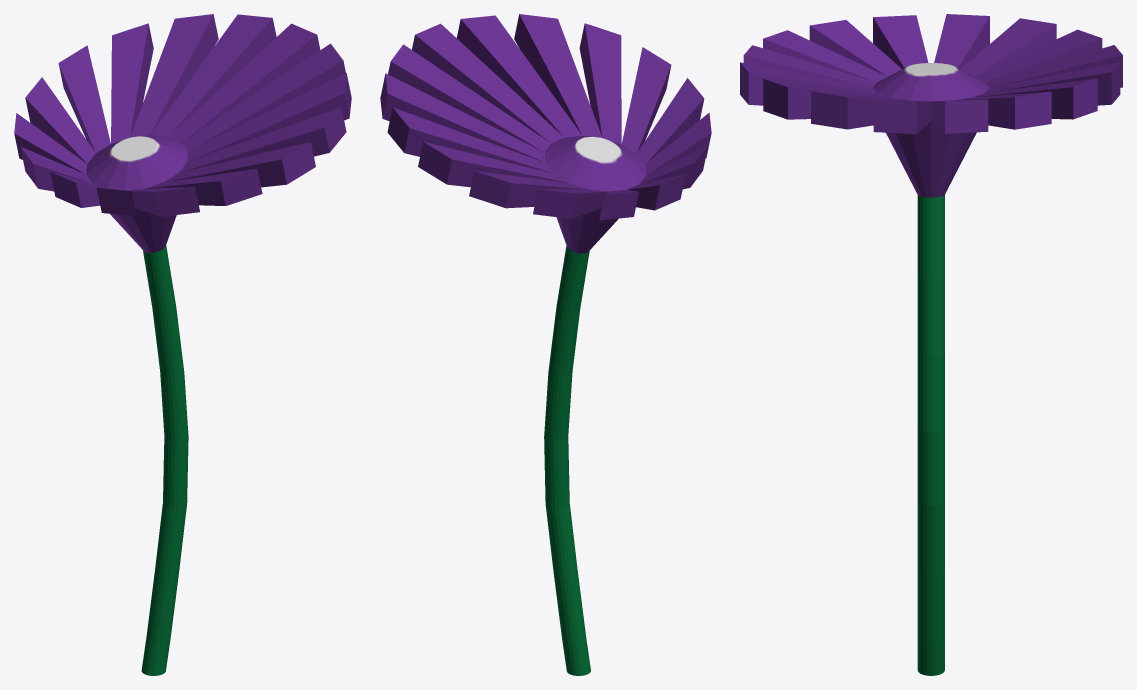
Rendered from flower.fbx.
The picture shows the model from 3 angles, left to right: view 1: azimuth 30°, elevation 25°; view 2: azimuth 150°, elevation 25°; view 3: azimuth 270°, elevation 25°; orthographic projection. The views are drawn at different scales.
Visible parts, largest first — view 1: pCone2; view 2: pCone2; view 3: pCone2.
Boxes of the visible parts, box(x1,y1,x2,y2) form: pCone2: box(14, 14, 351, 675); pCone2: box(380, 14, 711, 675); pCone2: box(740, 14, 1122, 675).
Bounding box in the file's own units: 3.22 × 6.27 × 3.29.
1 material, 1 textured.
